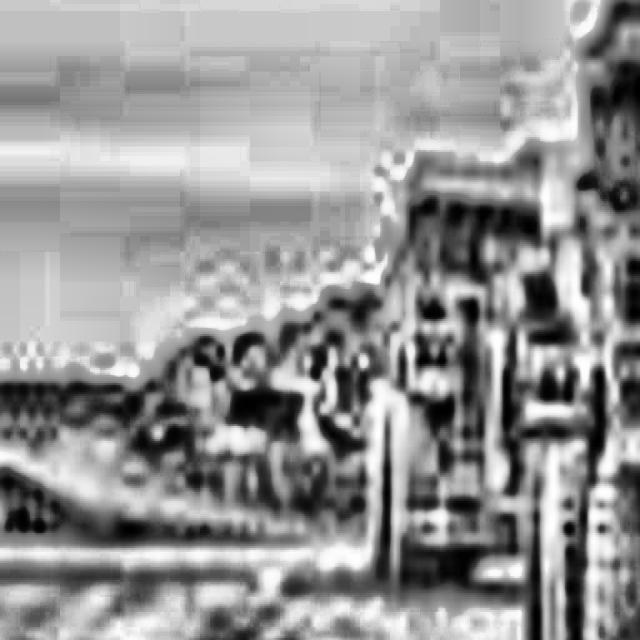dump_truck: (364, 67, 554, 595)
